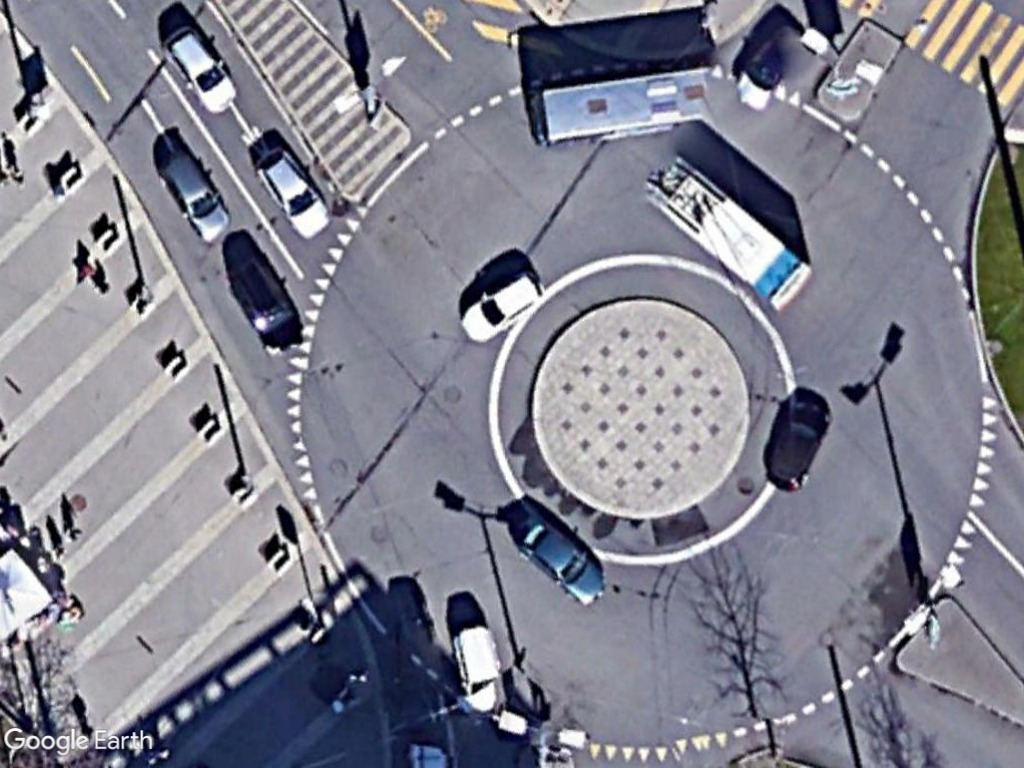bus: (526, 57, 714, 151)
car: (507, 509, 610, 607), (222, 249, 308, 356), (252, 146, 334, 241), (163, 26, 241, 120), (458, 268, 547, 345), (158, 151, 232, 243), (761, 397, 832, 492)
